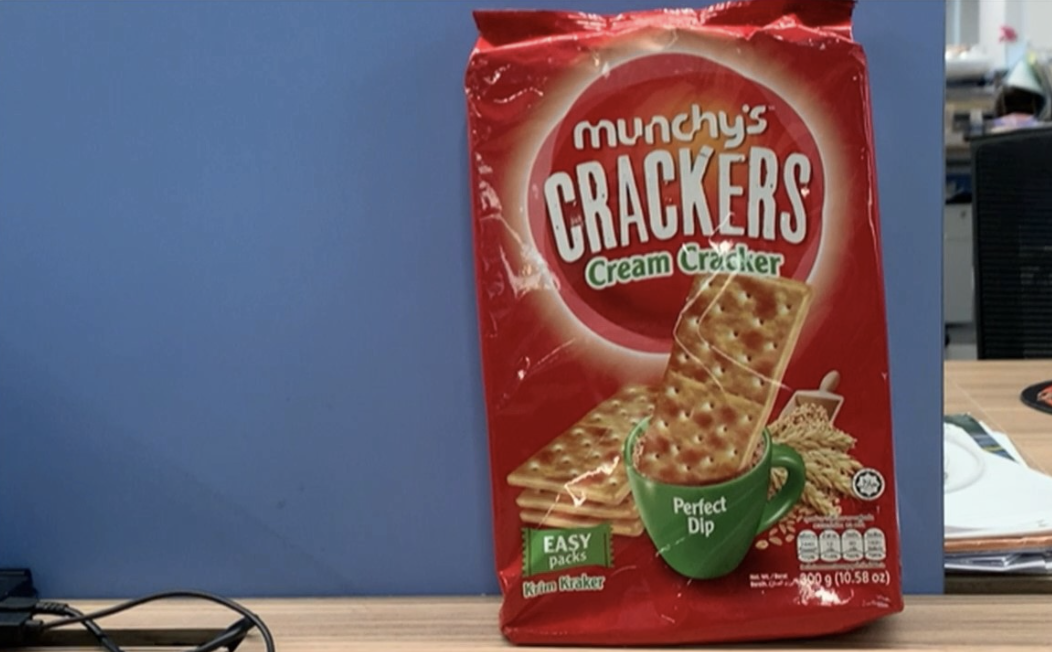crackers_150g: (508, 63, 894, 611)
